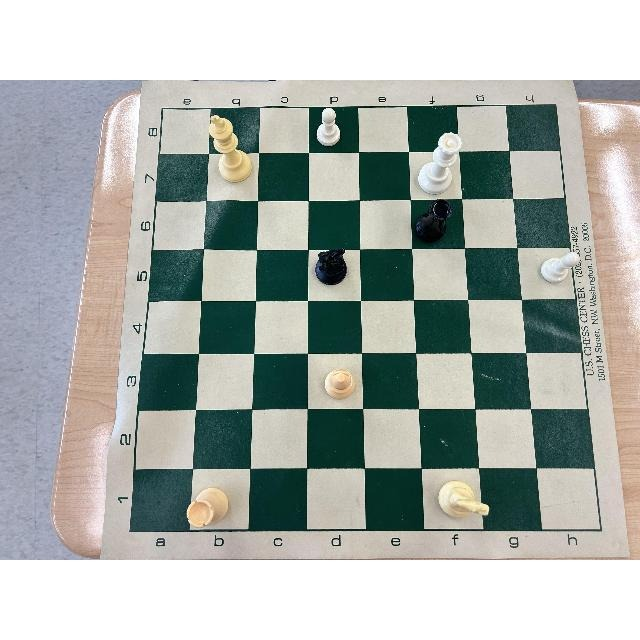black-knight: (314, 248, 348, 286)
black-rook: (415, 197, 453, 243)
white-bishop: (324, 368, 355, 400)
white-king: (208, 114, 252, 183)
white-knight: (438, 479, 490, 519)
white-pawn: (539, 252, 581, 284), (316, 107, 342, 146)
white-queen: (417, 132, 463, 196)
white-rook: (187, 486, 229, 528)
